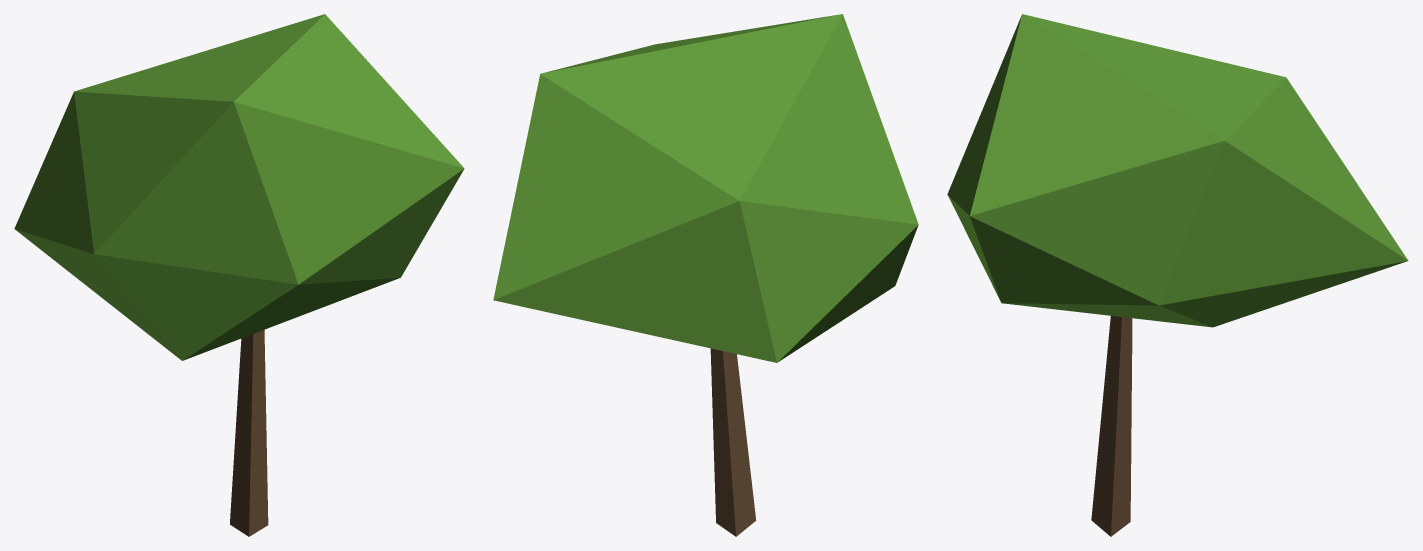
File: broadleaf_a_lod2.glb
3 views of the same model, side by side, from view 1: azimuth 30°, elevation 25°; view 2: azimuth 150°, elevation 25°; view 3: azimuth 270°, elevation 25° (orthographic). The views are drawn at different scales.
Visible parts, largest first — view 1: broadleaf; view 2: broadleaf; view 3: broadleaf.
Part boxes in pixels (box(x1,y1,x2,y2)): broadleaf: box(14, 14, 464, 536); broadleaf: box(493, 14, 918, 536); broadleaf: box(947, 14, 1408, 536).
Size of the model in its own units: 6.92 by 9.41 by 8.13.
